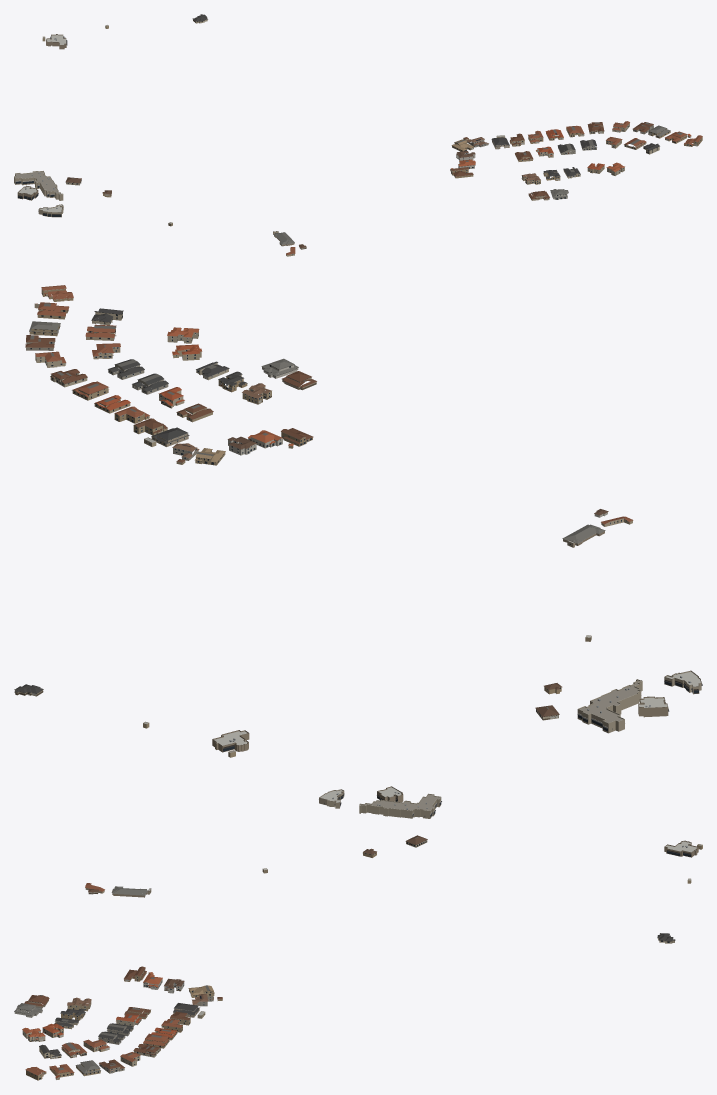
3 views of the same model, one above another, from view 1: azimuth 30°, elevation 25°; view 2: azimuth 150°, elevation 25°; view 3: azimuth 270°, elevation 25° (orthographic). The views are drawn at different scales.
Parts seen in each view (by area): view 1: buildings_r0_c1_lod0; view 2: buildings_r0_c1_lod0; view 3: buildings_r0_c1_lod0.
Part boxes in pixels (x1,y1,x2,y2): buildings_r0_c1_lod0: [14, 14, 702, 256]; buildings_r0_c1_lod0: [14, 285, 702, 757]; buildings_r0_c1_lod0: [14, 786, 702, 1080].
Bounding box in the file's own units: 899 × 79.56 × 803.
